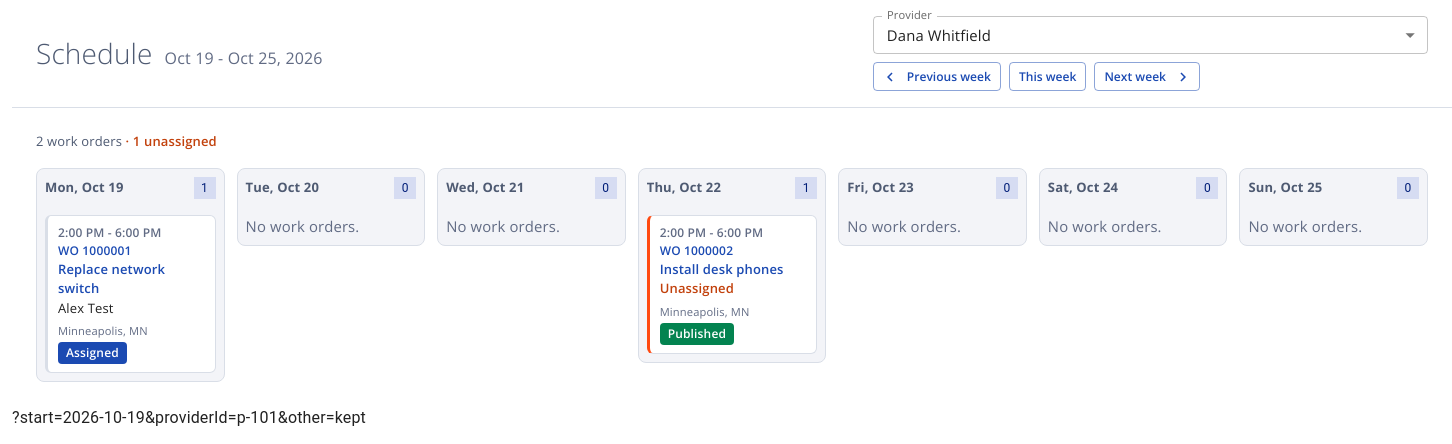
it: SchedulePage › removes the provider filter while keeping the week and other parameters
The image size is (1452, 444).
What coordinates should you click on to do the following:
click the dropdown named "Provider"
I would click on:
 (939, 34)
Its box is [887, 24, 991, 44].
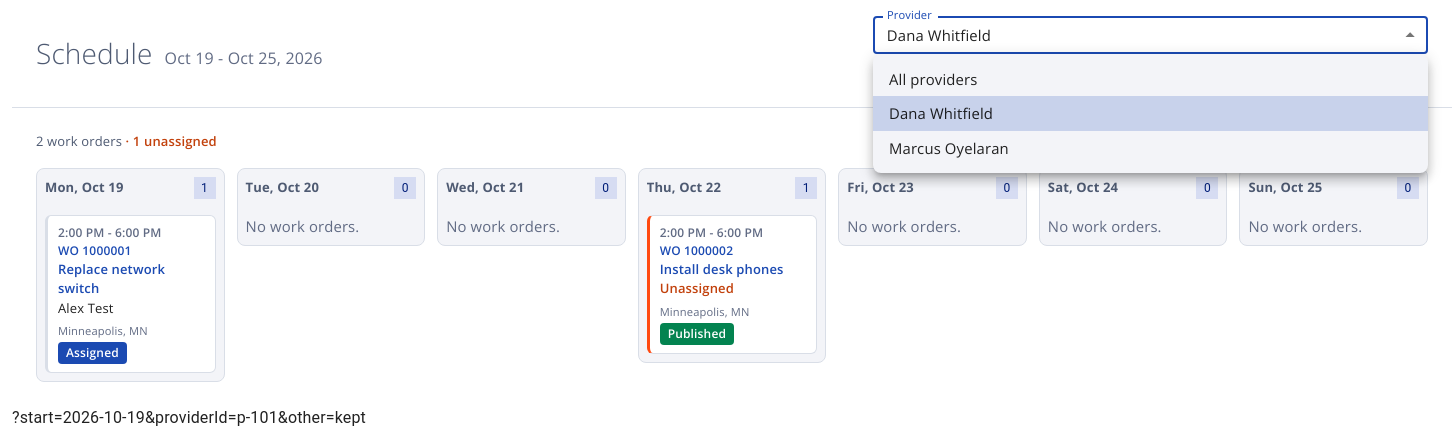
What coordinates should you click on to do the following:
click the option "All providers"
I would click on:
 (933, 79)
Its box is [889, 69, 978, 89].
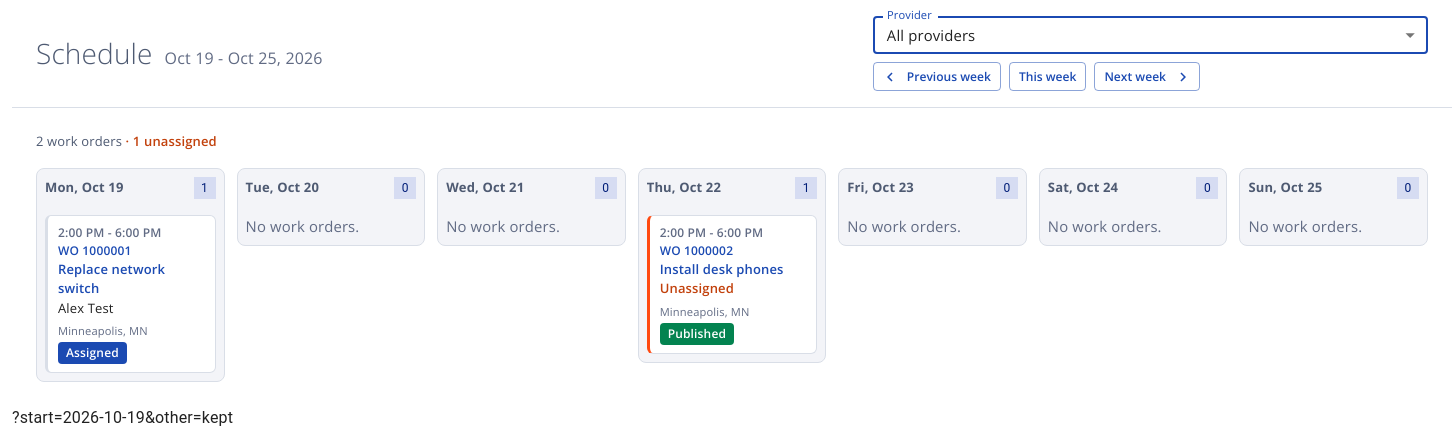
Now the dropdown labelled "provider" reads "All providers", box [887, 24, 975, 44]
Now the text named "Current address" reads "?start=2026-10-19&other=kept", box [12, 408, 233, 428]
